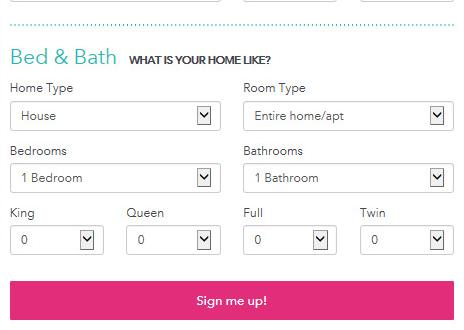button: (8, 280, 456, 321)
field: (7, 99, 222, 133), (240, 99, 456, 132), (7, 162, 221, 194), (241, 162, 455, 194), (124, 224, 221, 257), (8, 225, 105, 257), (241, 224, 338, 256), (358, 224, 455, 256)
field_with_label: (239, 82, 460, 134), (239, 145, 459, 197), (5, 83, 225, 134), (4, 145, 223, 196), (122, 206, 224, 258), (7, 206, 107, 259), (355, 207, 458, 257), (238, 208, 340, 258)
